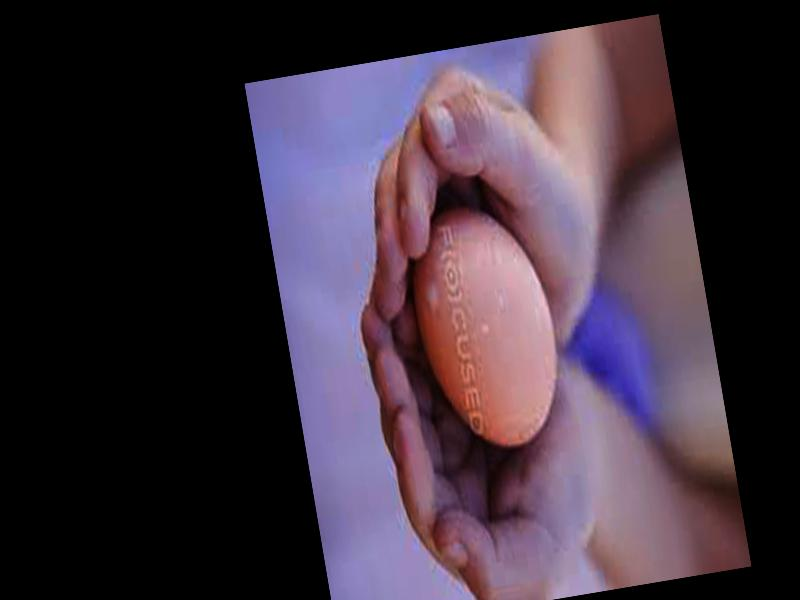Eggs: (400, 196, 573, 463)
